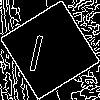I: (25, 25, 49, 73)
